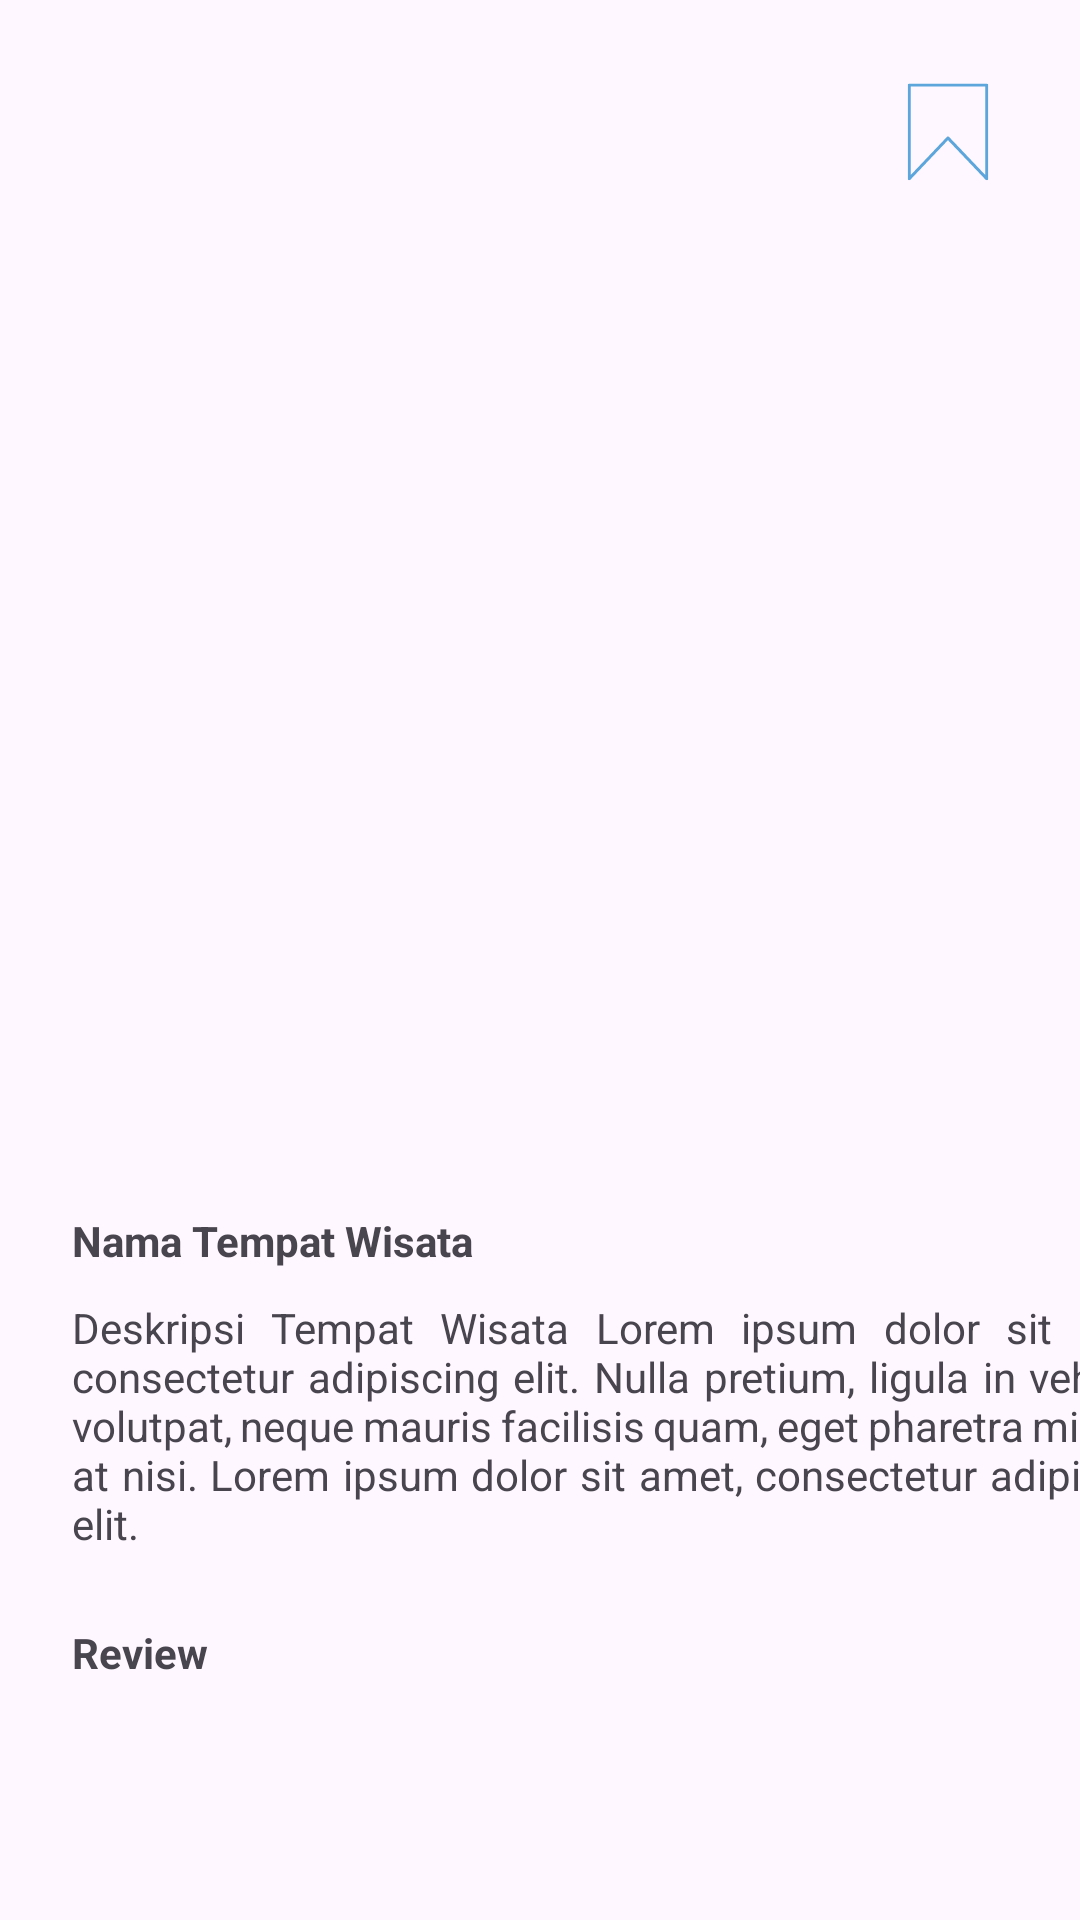

Where icons sit on this 1080*1920 app screen, as (x1, y1, x2, y2):
bookmark: (908, 83, 988, 180)
